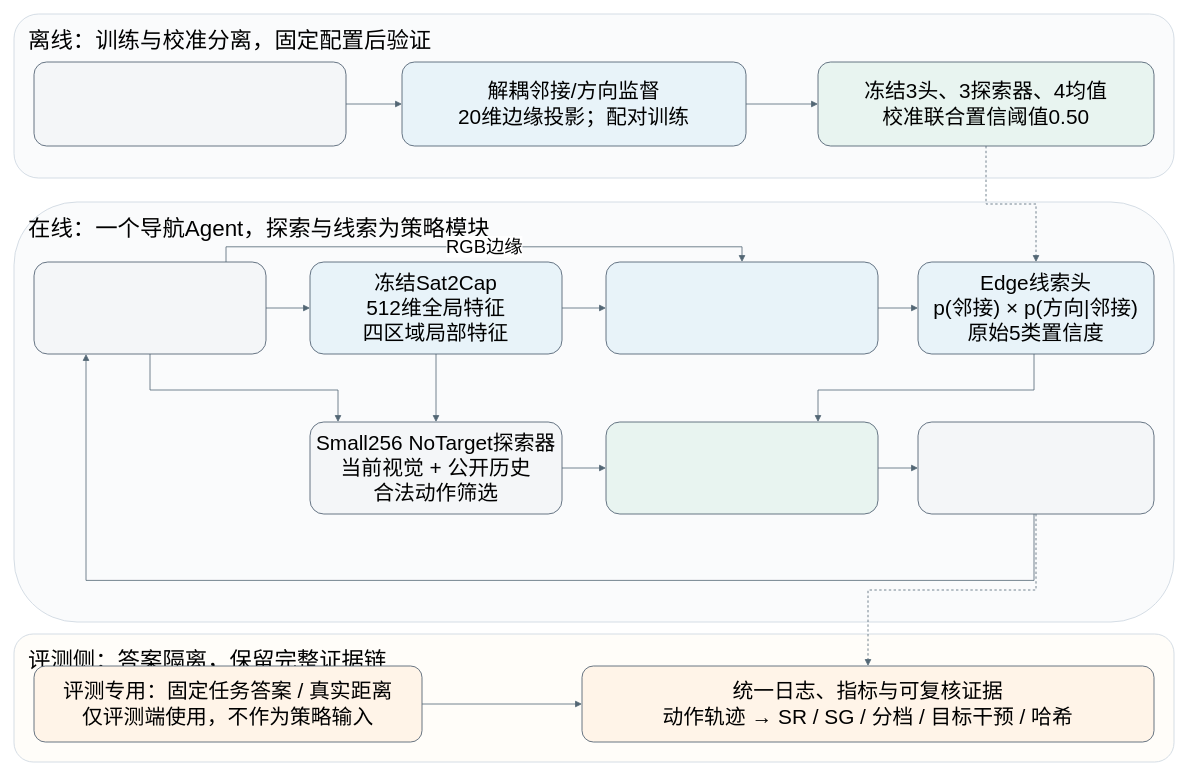
The diagram is 1188 pixels wide and 776 high, and some of its shapes have lost their labels. The centre of each missing label's shape, as x and y in pixels:
两图关系特征 1041维原特征 +20维RGB边缘特征: the point at 741,307
公开Observation 当前图 + 目标图 位置 / visited / 剩余步数: the point at 149,307
原train：87拟合 / 22校准 28张已知开发图只作验证: the point at 189,103
可信线索行动门控 最高方向≥0.50且合法未访问 接受线索；否则沿用探索: the point at 741,467
环境执行一步 更新公开Observation 首次到达 / 预算耗尽: the point at 1035,467
